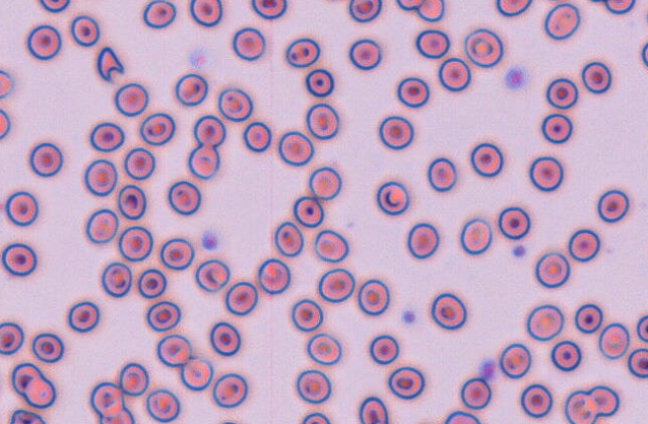PLT: (188, 47, 213, 71), (505, 66, 526, 89), (479, 358, 499, 378), (201, 231, 220, 251), (511, 245, 529, 260), (404, 308, 418, 324)
RBC: (11, 362, 56, 408), (464, 28, 503, 67), (526, 304, 564, 341), (317, 267, 355, 303), (544, 2, 580, 40), (534, 251, 570, 288), (430, 292, 466, 329), (83, 158, 117, 196), (89, 381, 124, 417), (295, 369, 331, 404), (118, 225, 153, 261), (278, 130, 313, 166), (28, 141, 63, 177), (212, 372, 247, 408), (26, 24, 61, 60), (528, 155, 563, 191), (305, 102, 339, 139), (387, 366, 425, 399), (1, 242, 37, 276), (194, 258, 230, 292), (378, 115, 414, 149), (406, 222, 439, 259), (459, 217, 492, 254), (257, 257, 290, 294), (145, 388, 180, 422), (156, 333, 191, 367), (113, 82, 148, 116), (167, 180, 201, 215), (469, 142, 503, 177), (217, 87, 252, 121), (5, 190, 38, 226), (139, 112, 175, 145), (598, 322, 630, 359), (357, 278, 389, 315), (224, 281, 258, 315), (313, 229, 348, 262), (306, 332, 341, 365), (85, 208, 118, 243), (497, 205, 530, 240), (376, 180, 409, 215), (187, 143, 219, 179), (499, 342, 531, 378), (564, 390, 598, 423), (180, 357, 213, 391), (174, 73, 208, 106), (308, 166, 341, 200), (438, 57, 471, 91), (160, 237, 194, 270), (596, 189, 629, 223), (232, 26, 265, 60), (520, 383, 552, 418), (209, 321, 241, 356), (101, 261, 132, 297), (273, 221, 304, 257), (568, 228, 600, 262), (146, 300, 181, 331), (89, 121, 124, 152), (193, 114, 225, 147), (291, 298, 323, 331), (123, 147, 155, 180), (67, 300, 100, 332), (545, 77, 578, 109), (348, 38, 381, 70), (118, 362, 149, 396), (285, 37, 320, 67), (292, 195, 324, 227), (396, 76, 429, 107), (427, 157, 457, 191), (117, 184, 146, 219), (415, 29, 450, 58), (588, 384, 619, 416), (460, 377, 491, 409), (31, 332, 64, 362), (581, 61, 611, 94), (550, 340, 581, 371), (541, 112, 572, 143), (142, 0, 176, 28), (70, 15, 100, 46), (369, 334, 399, 364), (242, 121, 271, 152), (189, 0, 222, 27), (358, 395, 388, 424), (574, 303, 603, 333), (137, 268, 166, 298), (305, 68, 334, 97), (0, 321, 24, 354), (348, 0, 381, 22), (250, 0, 287, 19), (627, 347, 647, 378), (416, 0, 444, 22), (495, 0, 532, 16), (100, 407, 134, 424), (9, 408, 46, 423), (443, 410, 480, 423), (604, 0, 635, 14), (39, 0, 70, 12), (301, 411, 331, 423), (0, 69, 12, 98), (636, 314, 648, 342), (395, 0, 424, 11), (0, 108, 10, 139), (641, 40, 648, 69), (216, 419, 244, 424), (541, 0, 571, 4), (644, 0, 648, 25), (585, 0, 606, 3), (321, 0, 350, 2)
Schistocyte: (97, 44, 124, 82)
